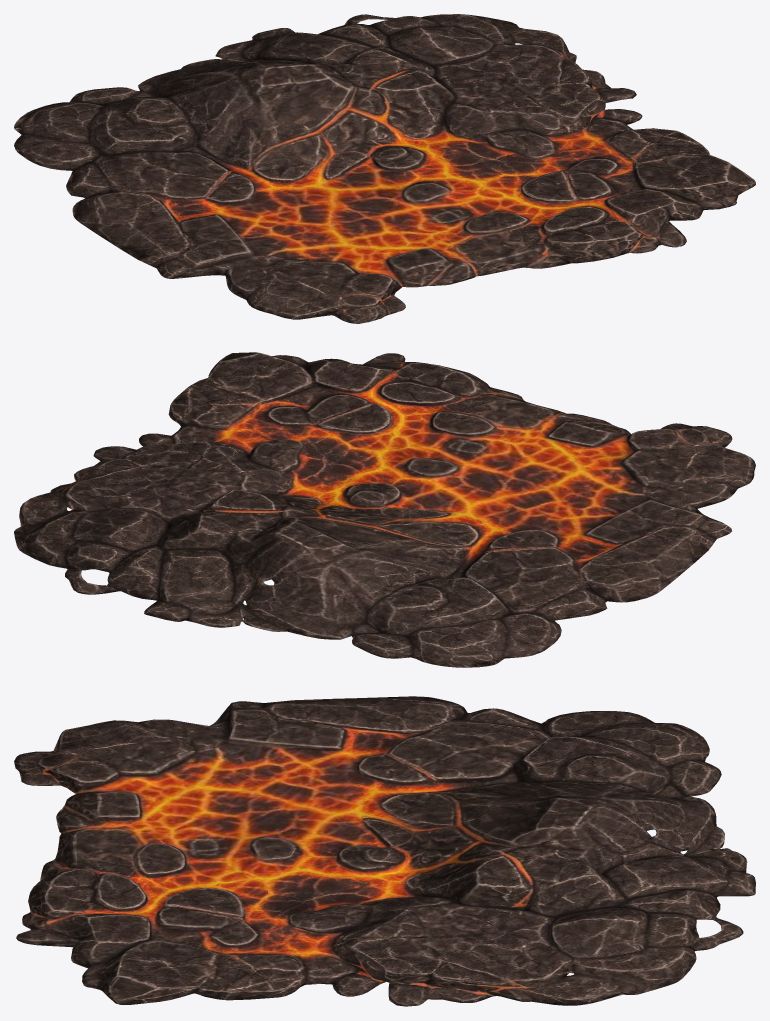
The picture shows the model from 3 angles, top to bottom: view 1: azimuth 30°, elevation 25°; view 2: azimuth 150°, elevation 25°; view 3: azimuth 270°, elevation 25°; orthographic projection. The views are drawn at different scales.
Bounding box in the file's own units: 7.87 × 0.4855 × 7.98.
Materials: 1 (1 with a texture image).
